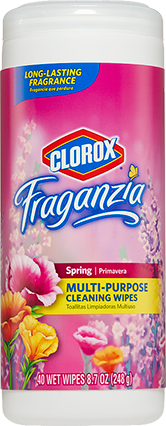Wipes: (1, 1, 166, 424)
